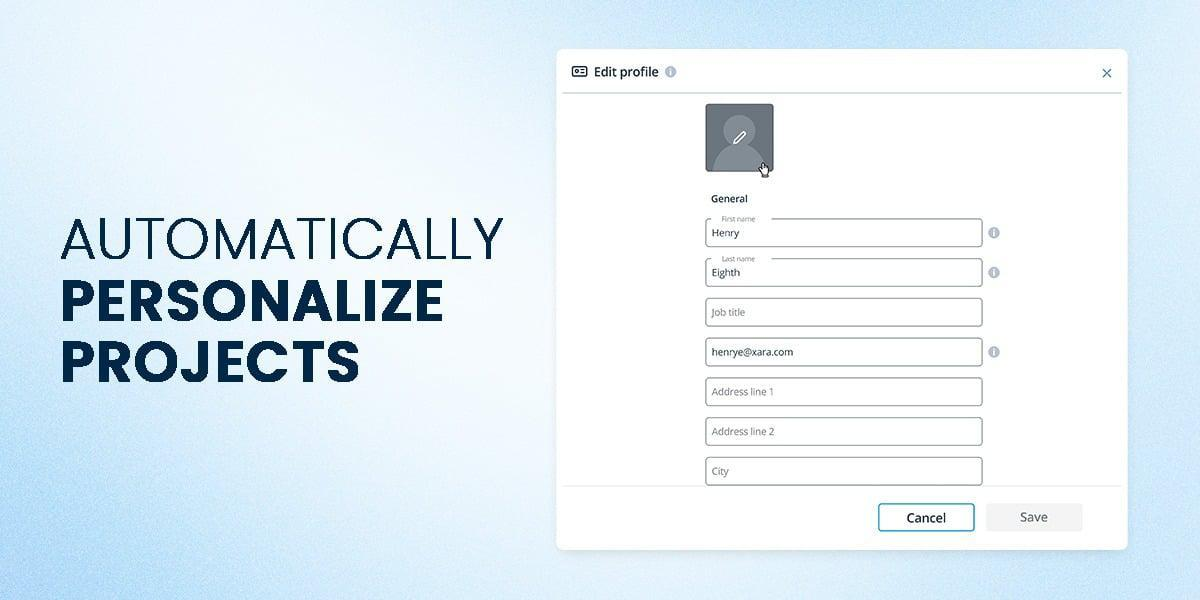button: (878, 503, 977, 534), (986, 503, 1084, 533)
icon: (989, 227, 1003, 241), (989, 267, 1001, 281), (989, 346, 1001, 360), (1103, 69, 1114, 79)
input: (706, 377, 984, 409), (705, 298, 985, 329), (706, 218, 985, 249), (705, 338, 984, 369), (706, 457, 985, 488), (706, 258, 984, 289), (706, 418, 985, 448)
